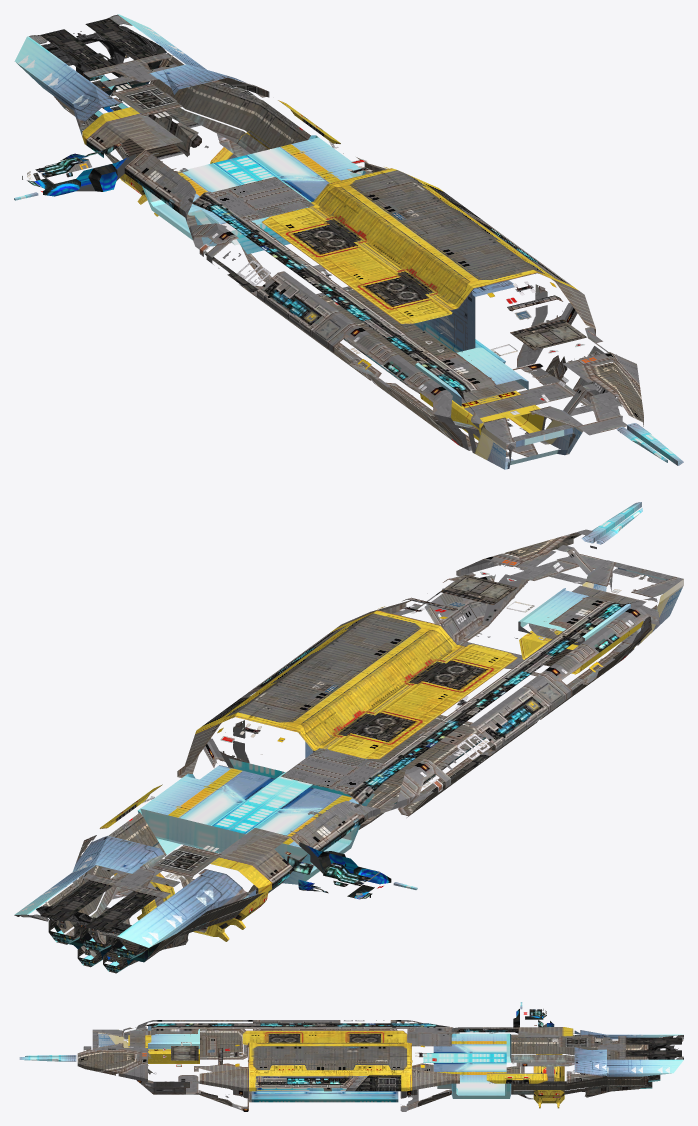
Rendered from LOD0-UVFlip.obj.
3 views of the same model, one above another, from view 1: azimuth 30°, elevation 25°; view 2: azimuth 150°, elevation 25°; view 3: azimuth 270°, elevation 25° (orthographic). The views are drawn at different scales.
Visible parts, largest first — view 1: Hgn_Carrier_Main_TEX, Hgn_Carrier_Engine_TEX, Hgn_Carrier_Badge; view 2: Hgn_Carrier_Main_TEX, Hgn_Carrier_Engine_TEX, Hgn_Carrier_Badge, Hgn_C_Innate_Resource_TEX; view 3: Hgn_Carrier_Main_TEX, Hgn_Carrier_Badge, Hgn_C_Innate_Resource_TEX, Hgn_Carrier_Engine_TEX.
Boxes of the visible parts, box(x1,y1,x2,y2) form: Hgn_Carrier_Main_TEX: box(14, 14, 683, 469); Hgn_Carrier_Engine_TEX: box(22, 14, 166, 196); Hgn_Carrier_Badge: box(208, 177, 314, 221); Hgn_Carrier_Main_TEX: box(14, 502, 683, 973); Hgn_Carrier_Engine_TEX: box(20, 842, 391, 972); Hgn_Carrier_Badge: box(281, 748, 386, 792); Hgn_C_Innate_Resource_TEX: box(114, 864, 268, 941); Hgn_Carrier_Main_TEX: box(19, 1002, 683, 1111); Hgn_Carrier_Badge: box(407, 1027, 451, 1046); Hgn_C_Innate_Resource_TEX: box(533, 1054, 564, 1108); Hgn_Carrier_Engine_TEX: box(513, 1009, 683, 1084).
Bounding box in the file's own units: 242 × 73.23 × 770.
